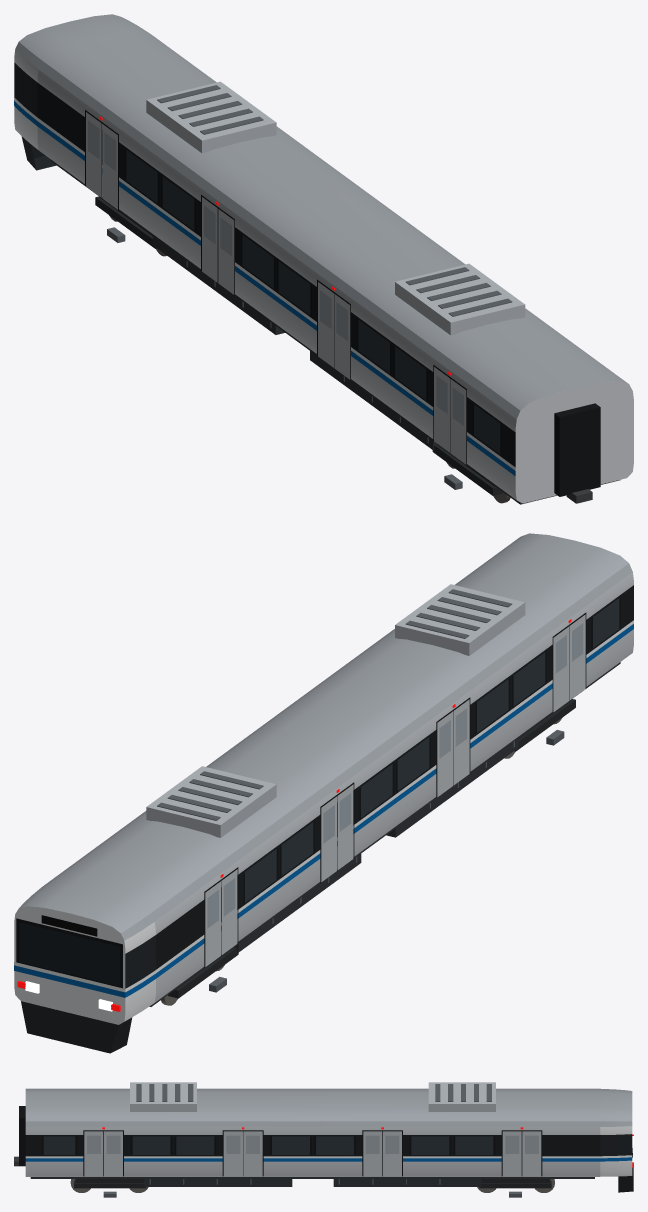
File: taipei-hc-lead.glb
3 renders of one model, top to bottom at view 1: azimuth 30°, elevation 25°; view 2: azimuth 150°, elevation 25°; view 3: azimuth 270°, elevation 25°, orthographic. The views are drawn at different scales.
Visible parts, largest first — view 1: TaipeiHC_Lead; view 2: TaipeiHC_Lead; view 3: TaipeiHC_Lead.
Boxes of the visible parts, x1,y1,x2,y2 form: TaipeiHC_Lead: (14, 14, 633, 504); TaipeiHC_Lead: (14, 533, 633, 1053); TaipeiHC_Lead: (14, 1082, 633, 1197).
Size of the model in its own units: 3.26 by 3.91 by 24.01.
